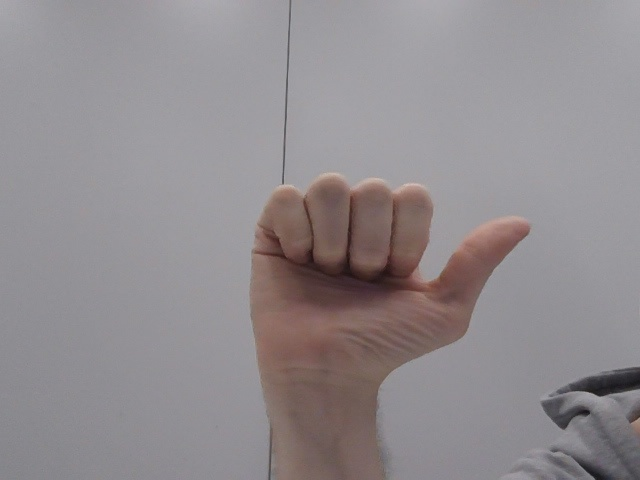left: (233, 164, 552, 413)
